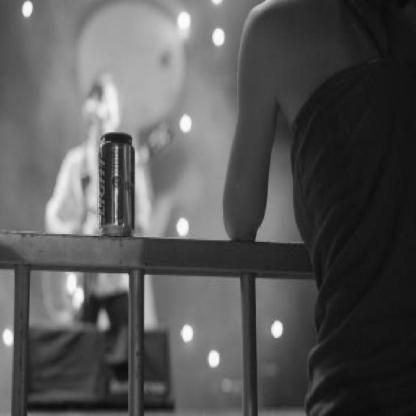alumunium_can: (99, 130, 136, 237)
